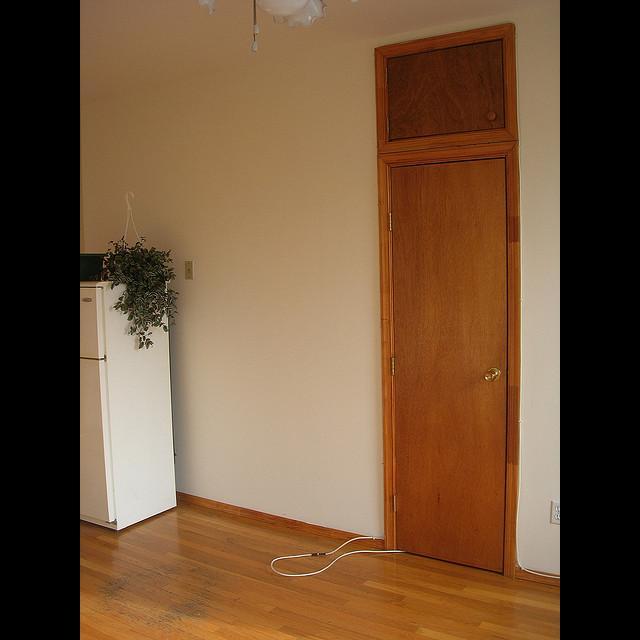Refrigerator: (81, 280, 177, 531)
